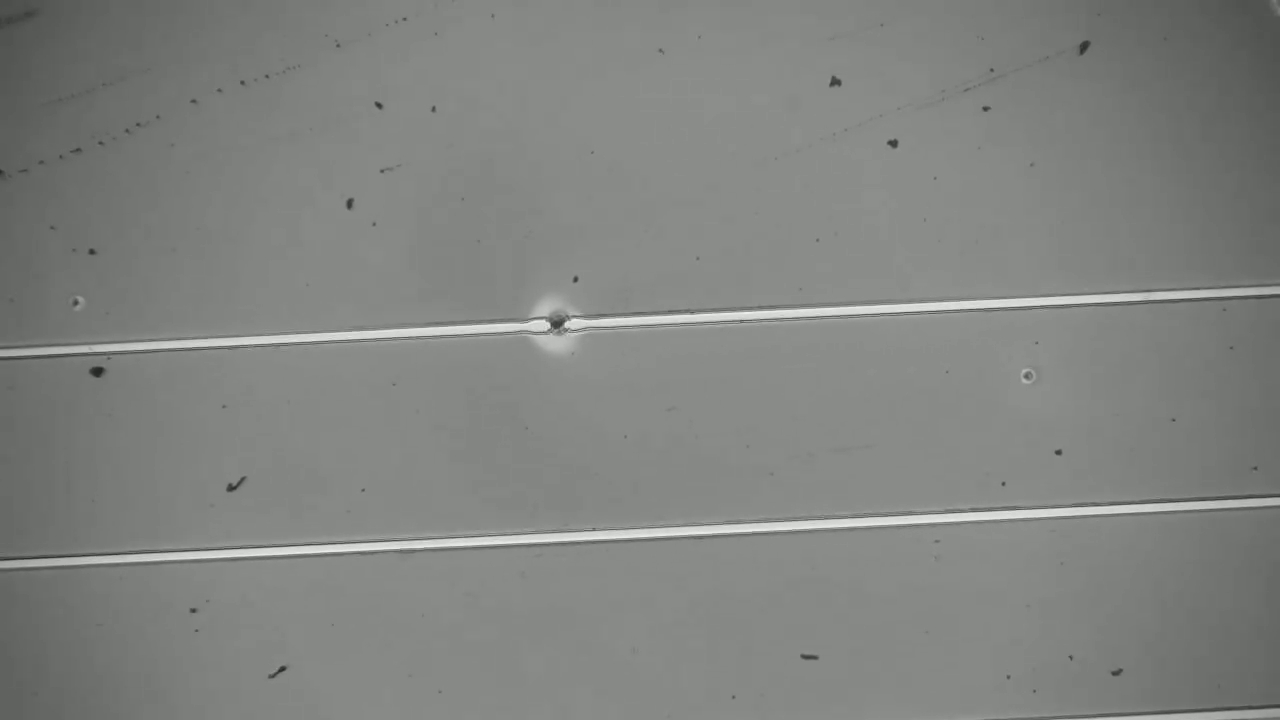stains_enbedded: (537, 305, 586, 348)
